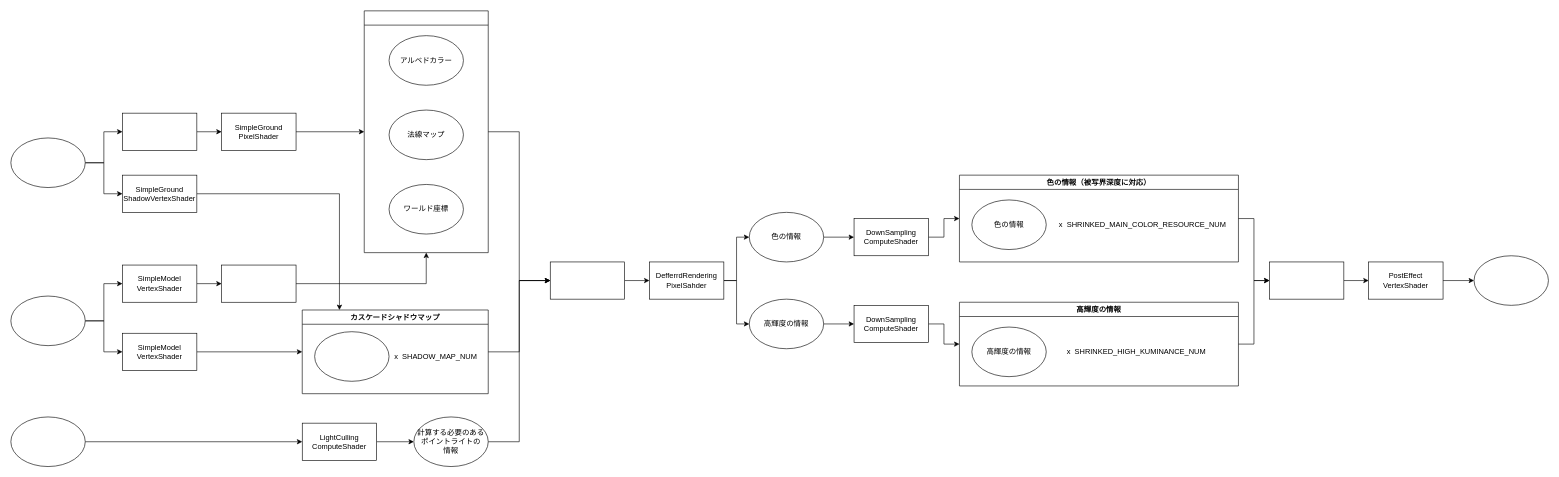
The diagram is 1559 pixels wide and 477 high, and some of its shapes have lost their labels. The shapes that lost their labels are listed below. From the top down, each one's box as (x1, y1, x2, y2) in pixels, then its label:
(122, 113, 197, 150): SimpleGroumd VertexShader
(364, 10, 488, 253): GBuffer
(10, 137, 85, 188): 地面のメッシュ
(221, 264, 296, 302): SimpleModel PixelShader
(550, 261, 625, 299): DeferredRendering VertexShader
(1269, 261, 1344, 299): PostEffect PixelShader
(1473, 255, 1548, 305): フレームバッファ
(10, 295, 85, 346): 兎のメッシュ
(314, 331, 389, 381): シャドウマップ
(10, 416, 85, 467): ポイントライトの データ
